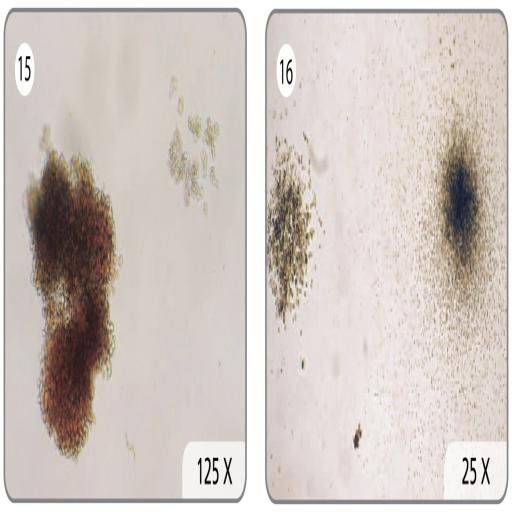CFU-GM: (27, 147, 117, 458), (425, 107, 497, 331), (266, 136, 322, 328)
